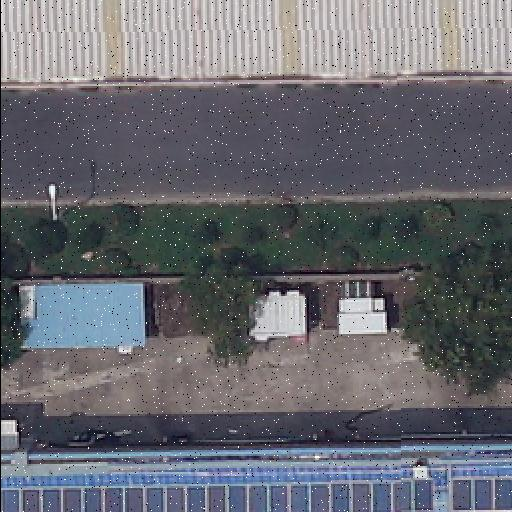solar-panel: (0, 470, 512, 512)
